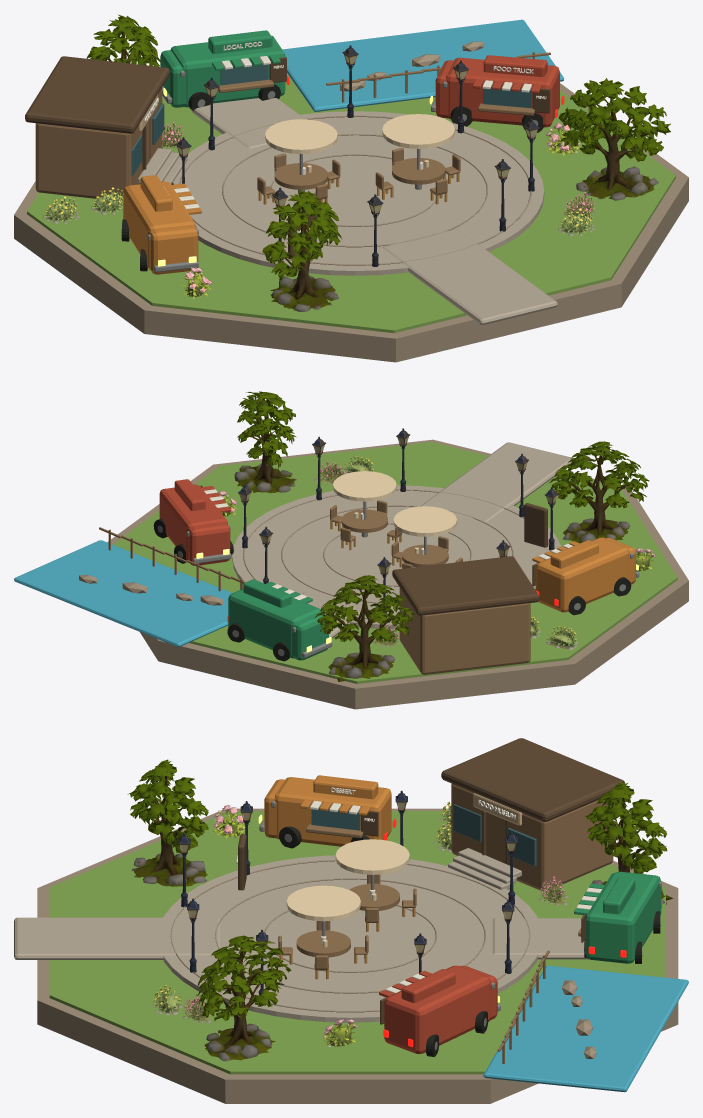
The model's file is food-experience-map.glb.
3 renders of one model, top to bottom at view 1: azimuth 30°, elevation 25°; view 2: azimuth 150°, elevation 25°; view 3: azimuth 270°, elevation 25°, orthographic. The views are drawn at different scales.
Parts seen in each view (by area): view 1: Grass island, Central plaza, Map island, Lake, South walkway, Cafe roof, tripo_node_0dde67af-841b-4742-82a1-1dec368d5454.001, Cafe building, tripo_node_0dde67af-841b-4742-82a1-1dec368d5454.002, Street food truck, North walkway, Local food truck (+21 smaller); view 2: Grass island, Central plaza, Map island, Lake, Cafe building, Cafe roof, South walkway, tripo_node_0dde67af-841b-4742-82a1-1dec368d5454, tripo_node_0dde67af-841b-4742-82a1-1dec368d5454.002, tripo_node_0dde67af-841b-4742-82a1-1dec368d5454.001, Dessert truck, Local food truck (+14 smaller); view 3: Grass island, Central plaza, Map island, Lake, South walkway, Cafe roof, Cafe building, tripo_node_0dde67af-841b-4742-82a1-1dec368d5454.001, tripo_node_0dde67af-841b-4742-82a1-1dec368d5454.002, Street food truck, tripo_node_0dde67af-841b-4742-82a1-1dec368d5454, Local food truck (+20 smaller).
Part boxes in pixels (bbox=[...]): Grass island: bbox=[27, 73, 675, 333]; Central plaza: bbox=[173, 111, 544, 275]; Map island: bbox=[14, 83, 688, 362]; Lake: bbox=[282, 19, 564, 111]; South walkway: bbox=[382, 229, 557, 324]; Cafe roof: bbox=[25, 56, 169, 133]; tripo_node_0dde67af-841b-4742-82a1-1dec368d5454.001: bbox=[558, 78, 670, 200]; Cafe building: bbox=[35, 87, 162, 198]; tripo_node_0dde67af-841b-4742-82a1-1dec368d5454.002: bbox=[262, 190, 342, 311]; Street food truck: bbox=[446, 57, 559, 127]; North walkway: bbox=[191, 98, 304, 148]; Local food truck: bbox=[170, 35, 285, 107]; Grass island: bbox=[113, 442, 677, 683]; Central plaza: bbox=[232, 485, 560, 628]; Map island: bbox=[107, 439, 688, 709]; Lake: bbox=[14, 540, 232, 646]; Cafe building: bbox=[399, 588, 530, 674]; Cafe roof: bbox=[392, 556, 539, 615]; South walkway: bbox=[421, 442, 572, 521]; tripo_node_0dde67af-841b-4742-82a1-1dec368d5454: bbox=[314, 575, 415, 681]; tripo_node_0dde67af-841b-4742-82a1-1dec368d5454.002: bbox=[549, 441, 649, 543]; tripo_node_0dde67af-841b-4742-82a1-1dec368d5454.001: bbox=[234, 391, 296, 493]; Dessert truck: bbox=[535, 537, 629, 612]; Local food truck: bbox=[228, 589, 321, 658]; Grass island: bbox=[49, 811, 665, 1074]; Central plaza: bbox=[163, 855, 537, 1022]; Map island: bbox=[37, 808, 678, 1103]; Lake: bbox=[483, 965, 688, 1092]; South walkway: bbox=[14, 917, 219, 959]; Cafe roof: bbox=[441, 738, 624, 821]; Cafe building: bbox=[451, 783, 613, 891]; tripo_node_0dde67af-841b-4742-82a1-1dec368d5454.001: bbox=[197, 935, 291, 1061]; tripo_node_0dde67af-841b-4742-82a1-1dec368d5454.002: bbox=[127, 759, 208, 886]; Street food truck: bbox=[384, 965, 490, 1053]; tripo_node_0dde67af-841b-4742-82a1-1dec368d5454: bbox=[584, 781, 673, 904]; Local food truck: bbox=[585, 872, 659, 963].
Bounding box in the file's own units: 22.87 × 4.89 × 22.77.
23 materials, 5 textured.
